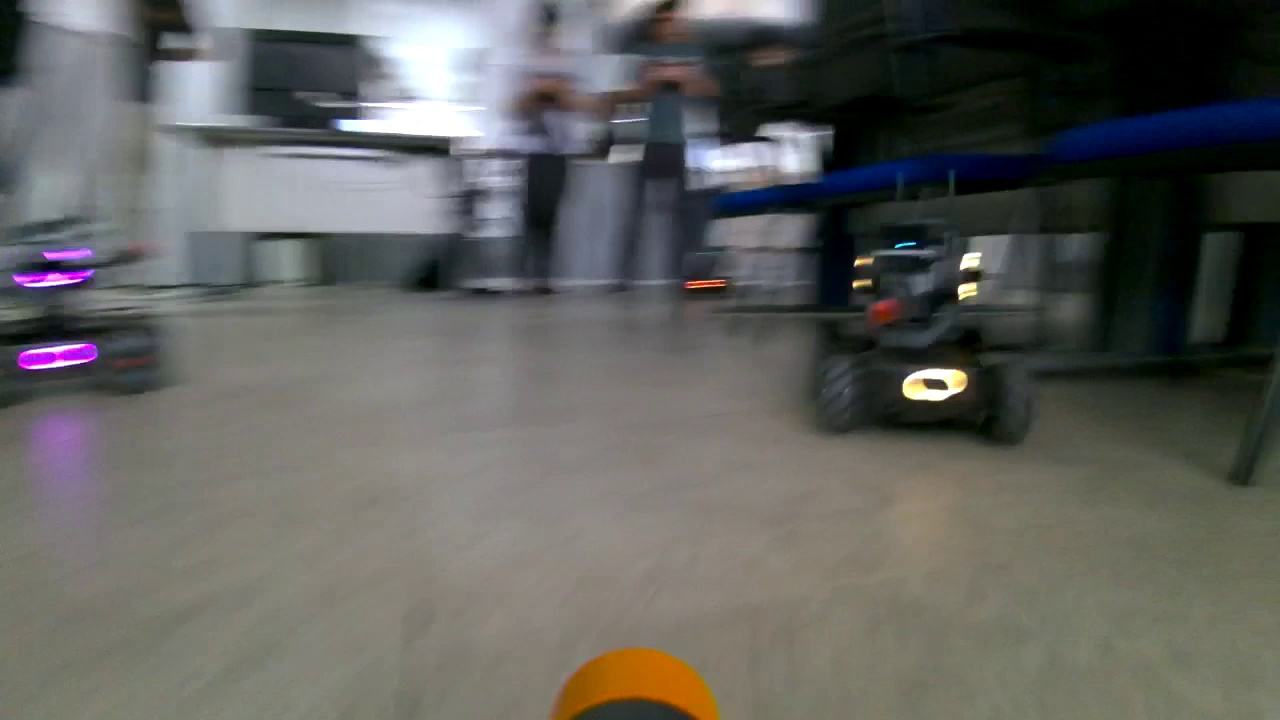robot: (787, 163, 1069, 457)
